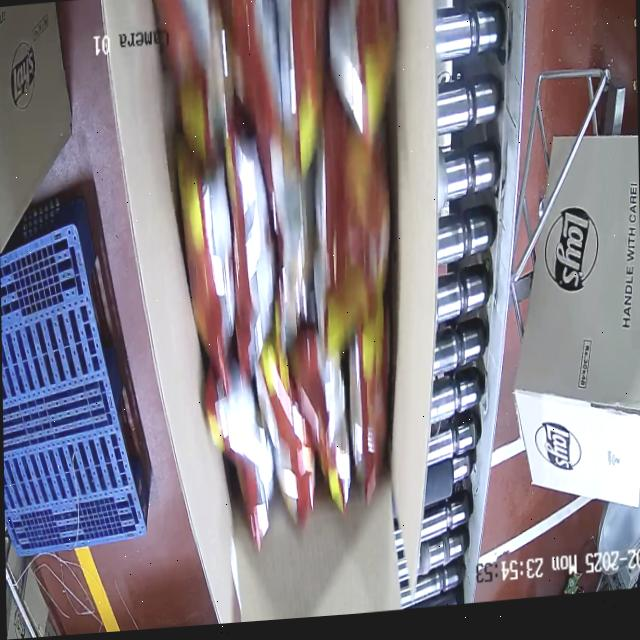MASALA: (162, 0, 397, 538)
